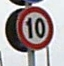limite 10: (17, 7, 53, 49)
